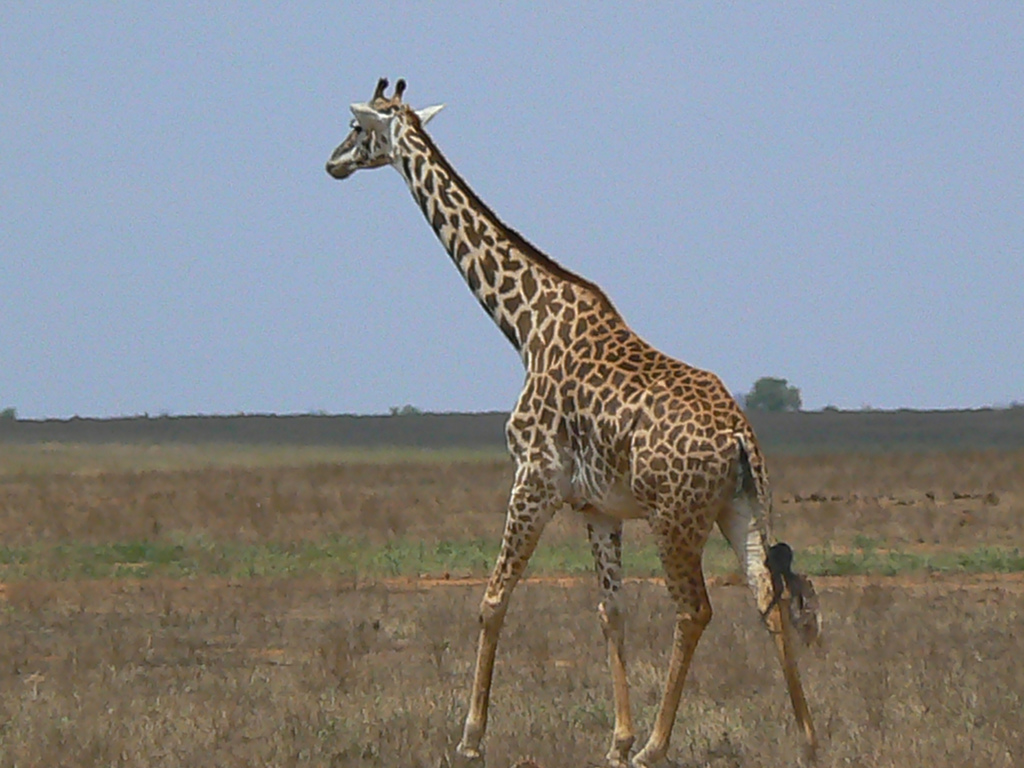giraffe: (319, 59, 862, 759)
